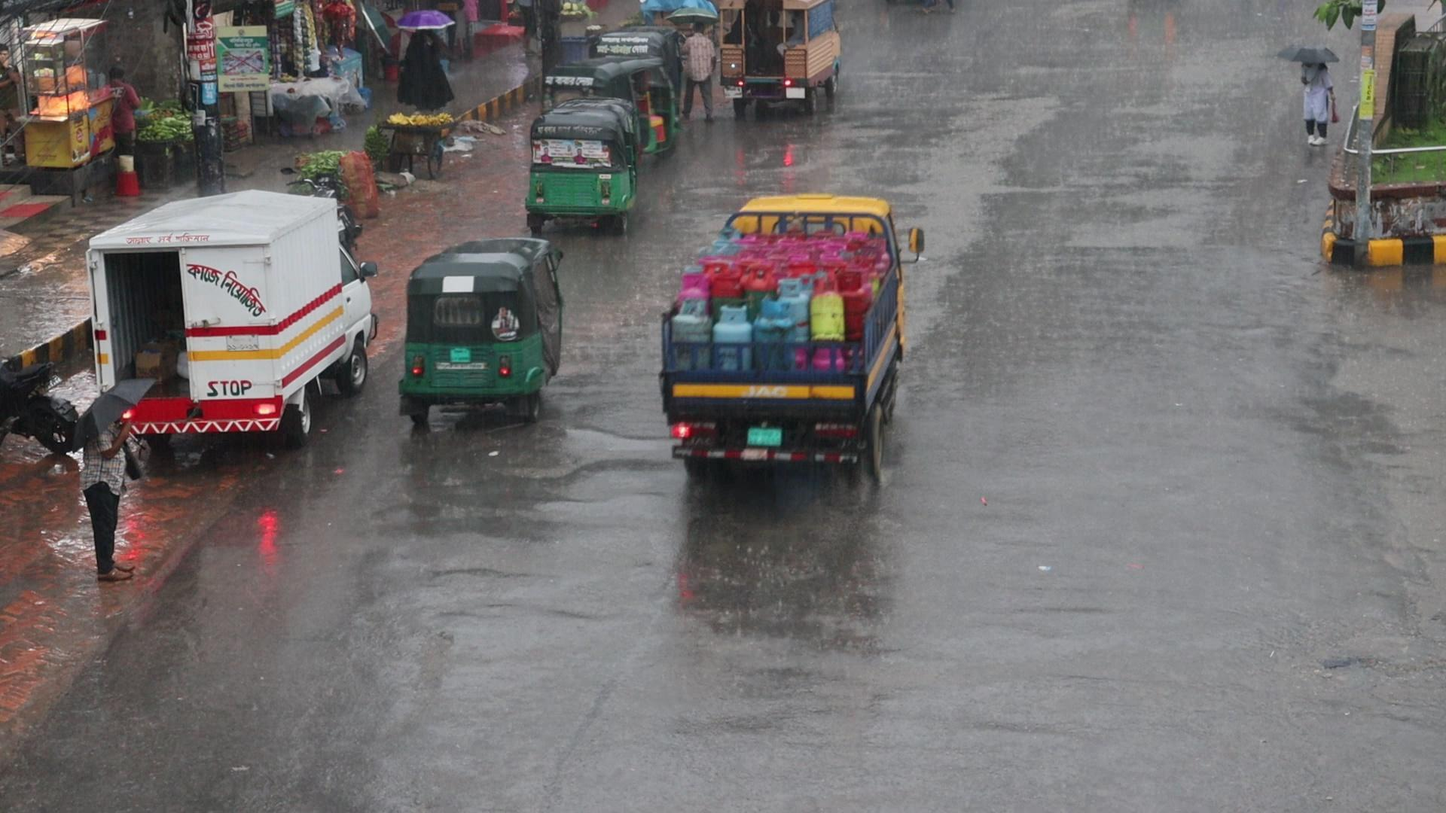Truck: (650, 181, 912, 489)
